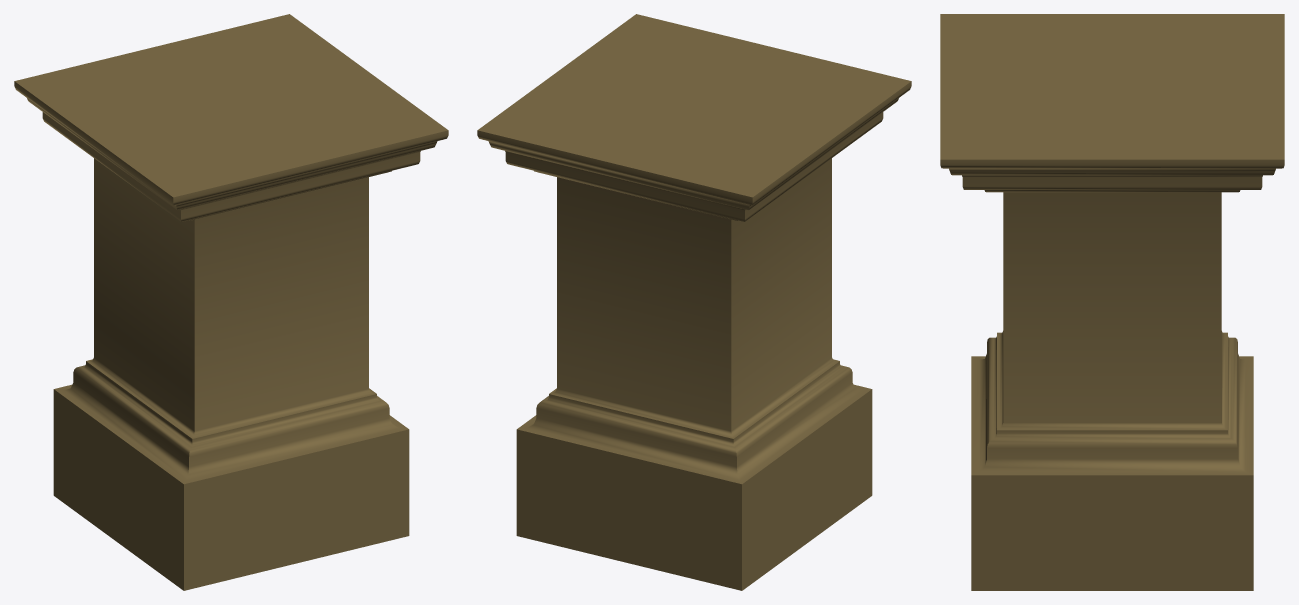
Rendered from piedestal.fbx.
3 views of the same model, side by side, from view 1: azimuth 30°, elevation 25°; view 2: azimuth 150°, elevation 25°; view 3: azimuth 270°, elevation 25° (orthographic). The views are drawn at different scales.
Parts seen in each view (by area): view 1: Plane.002; view 2: Plane.002; view 3: Plane.002.
Boxes of the visible parts, <box> form: Plane.002: <box>14,14,448,590</box>; Plane.002: <box>477,14,911,590</box>; Plane.002: <box>940,14,1284,590</box>.
Bounding box in the file's own units: 96.68 × 138 × 96.68.
